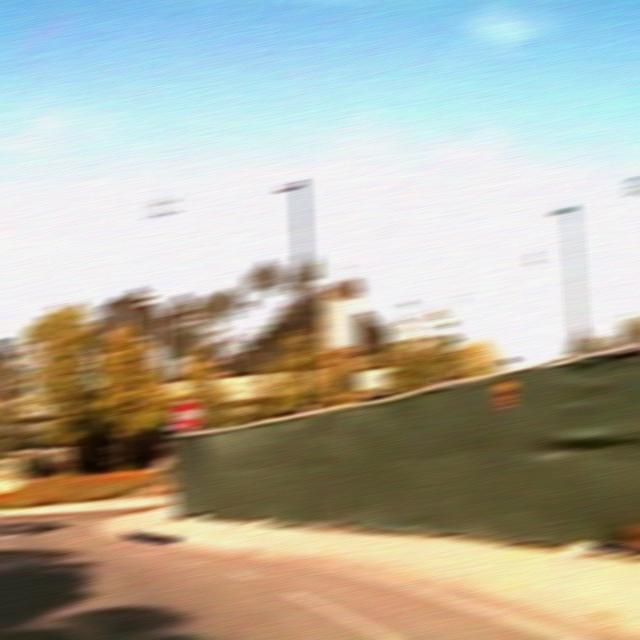stop: (172, 399, 202, 432)
